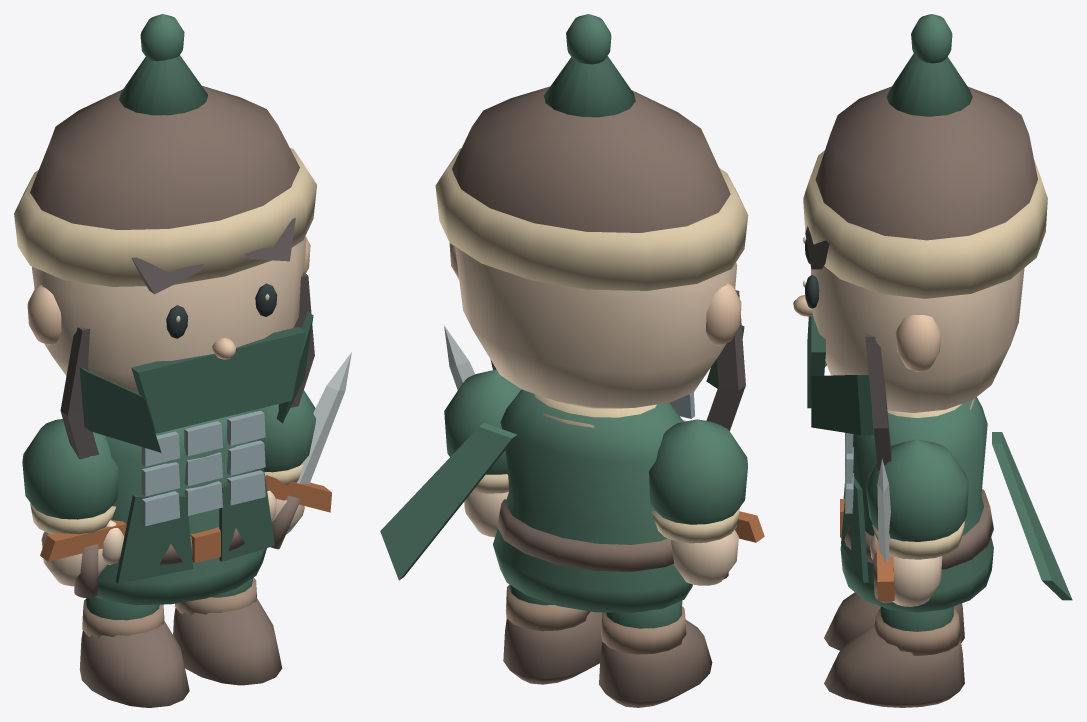
File: assassin.glb
The picture shows the model from 3 angles, left to right: view 1: azimuth 30°, elevation 25°; view 2: azimuth 150°, elevation 25°; view 3: azimuth 270°, elevation 25°; orthographic projection. The views are drawn at different scales.
Visible parts, largest first — view 1: Regional helmet, Soft cheek head, Fur hat brim, Soft face mask, Short folded tunic, Round leather boot, Puff sleeve, Round leather boot.001, Coat fold, Hood cheek cowl, Mongol pointed cap, Puff sleeve.001 (+32 smaller); view 2: Regional helmet, Soft cheek head, Short folded tunic, Fur hat brim, Puff sleeve, Long scarf tail, Round leather boot, Round leather boot.001, Broad leather belt, Mongol pointed cap, Puff sleeve.001, Little mitten (+11 smaller); view 3: Regional helmet, Soft cheek head, Fur hat brim, Short folded tunic, Puff sleeve.001, Round leather boot.001, Mongol pointed cap, Hood cheek cowl R, Long scarf tail, Ear.001, Little mitten.001, Boot turn cuff.001 (+11 smaller).
Boxes of the visible parts, x1=… form: Regional helmet: x1=30, y1=86, x2=299, y2=229; Soft cheek head: x1=32, y1=237, x2=306, y2=393; Fur hat brim: x1=14, y1=147, x2=316, y2=286; Soft face mask: x1=131, y1=327, x2=305, y2=433; Short folded tunic: x1=95, y1=409, x2=266, y2=605; Round leather boot: x1=79, y1=620, x2=189, y2=707; Puff sleeve: x1=22, y1=419, x2=118, y2=519; Round leather boot.001: x1=173, y1=598, x2=282, y2=685; Coat fold: x1=115, y1=494, x2=193, y2=583; Hood cheek cowl: x1=79, y1=367, x2=161, y2=452; Mongol pointed cap: x1=119, y1=55, x2=207, y2=115; Puff sleeve.001: x1=257, y1=390, x2=315, y2=472; Regional helmet: x1=452, y1=86, x2=730, y2=232; Soft cheek head: x1=455, y1=246, x2=737, y2=408; Short folded tunic: x1=493, y1=389, x2=692, y2=612; Fur hat brim: x1=435, y1=148, x2=748, y2=290; Puff sleeve: x1=649, y1=419, x2=747, y2=524; Long scarf tail: x1=380, y1=423, x2=516, y2=580; Round leather boot: x1=599, y1=620, x2=712, y2=707; Round leather boot.001: x1=503, y1=611, x2=602, y2=684; Broad leather belt: x1=497, y1=499, x2=674, y2=571; Mongol pointed cap: x1=544, y1=56, x2=635, y2=117; Puff sleeve.001: x1=444, y1=369, x2=521, y2=474; Little mitten: x1=671, y1=530, x2=738, y2=585; Regional helmet: x1=815, y1=86, x2=1037, y2=240; Soft cheek head: x1=810, y1=266, x2=1024, y2=412; Fur hat brim: x1=803, y1=150, x2=1047, y2=298; Short folded tunic: x1=840, y1=397, x2=993, y2=612; Puff sleeve.001: x1=865, y1=439, x2=968, y2=541; Round leather boot.001: x1=824, y1=624, x2=964, y2=707; Mongol pointed cap: x1=886, y1=53, x2=972, y2=116; Hood cheek cowl R: x1=811, y1=375, x2=873, y2=435; Long scarf tail: x1=992, y1=432, x2=1072, y2=600; Ear.001: x1=895, y1=315, x2=941, y2=372; Little mitten.001: x1=892, y1=556, x2=942, y2=606; Boot turn cuff.001: x1=874, y1=608, x2=961, y2=655.
Bounding box in the file's own units: 0.8627 × 1.75 × 0.674.
